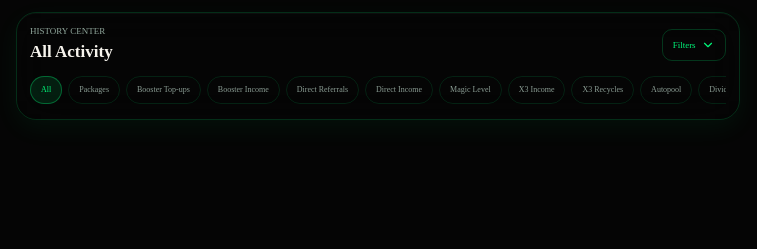
Test: History Center UI › shows the empty state when canonical Magic Level placements are absent
Click the button "Magic Level". click: (470, 90)
box: x1=439 y1=76 x2=502 y2=104
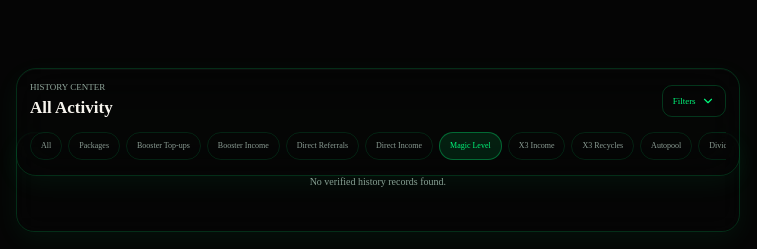
Check: the text "No verified history records found." is shown, box x1=16 y1=132 x2=740 y2=232
